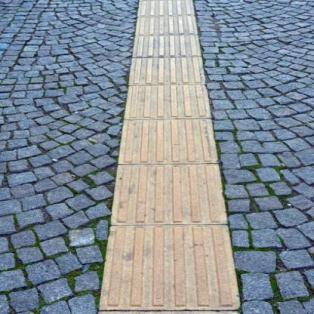Podoctatil: (52, 0, 266, 314)
